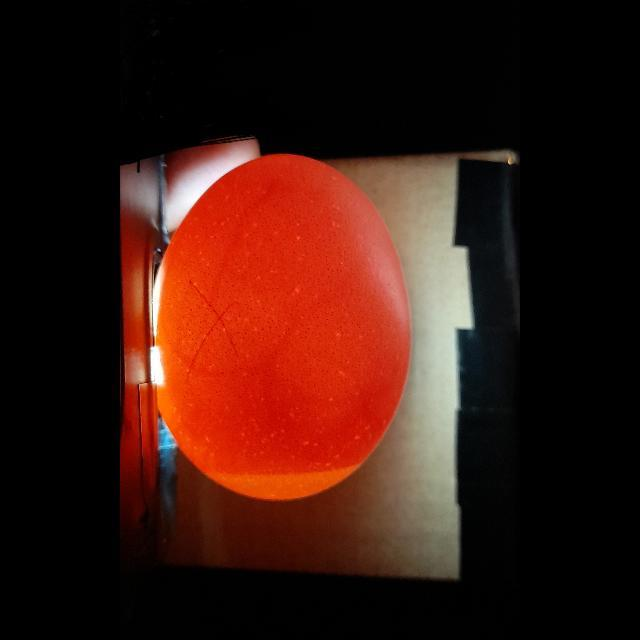Fertile: (153, 150, 417, 502)
